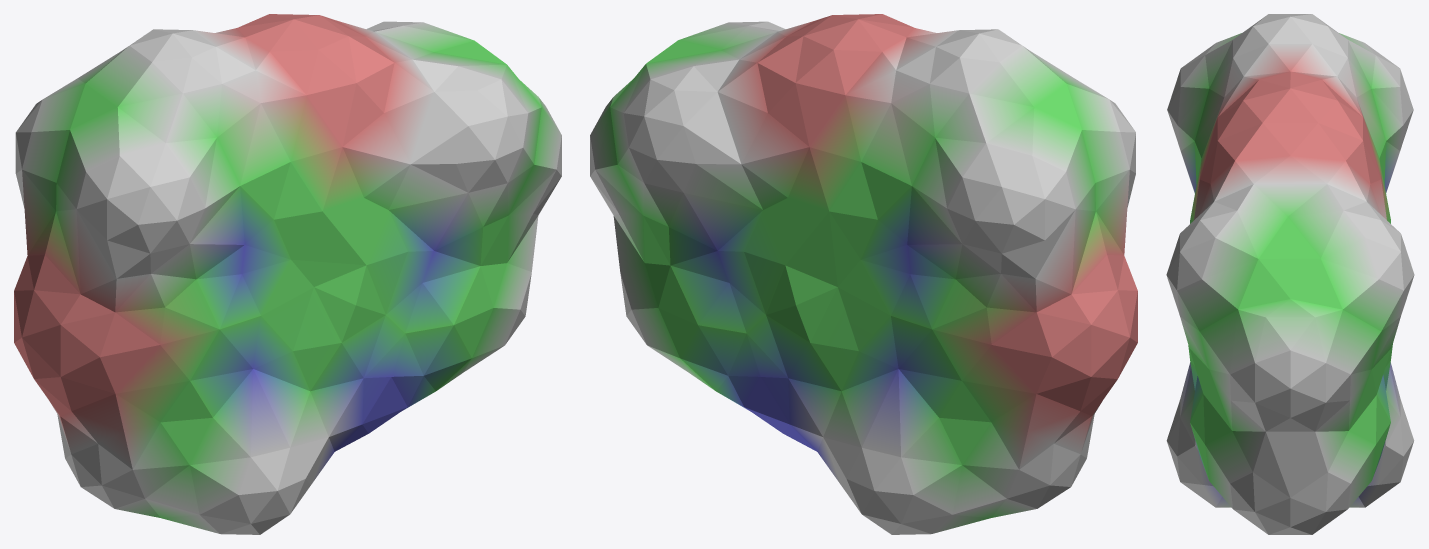
The model's file is caffeine__surface__default.glb.
3 views of the same model, side by side, from view 1: azimuth 30°, elevation 25°; view 2: azimuth 150°, elevation 25°; view 3: azimuth 270°, elevation 25° (orthographic). The views are drawn at different scales.
Parts seen in each view (by area): view 1: Renderer Node; view 2: Renderer Node; view 3: Renderer Node.
Boxes of the visible parts, x1,y1,x2,y2 form: Renderer Node: (14, 14, 561, 534); Renderer Node: (590, 14, 1137, 534); Renderer Node: (1166, 14, 1414, 534).
Size of the model in its own units: 10.05 by 8.76 by 4.2.
